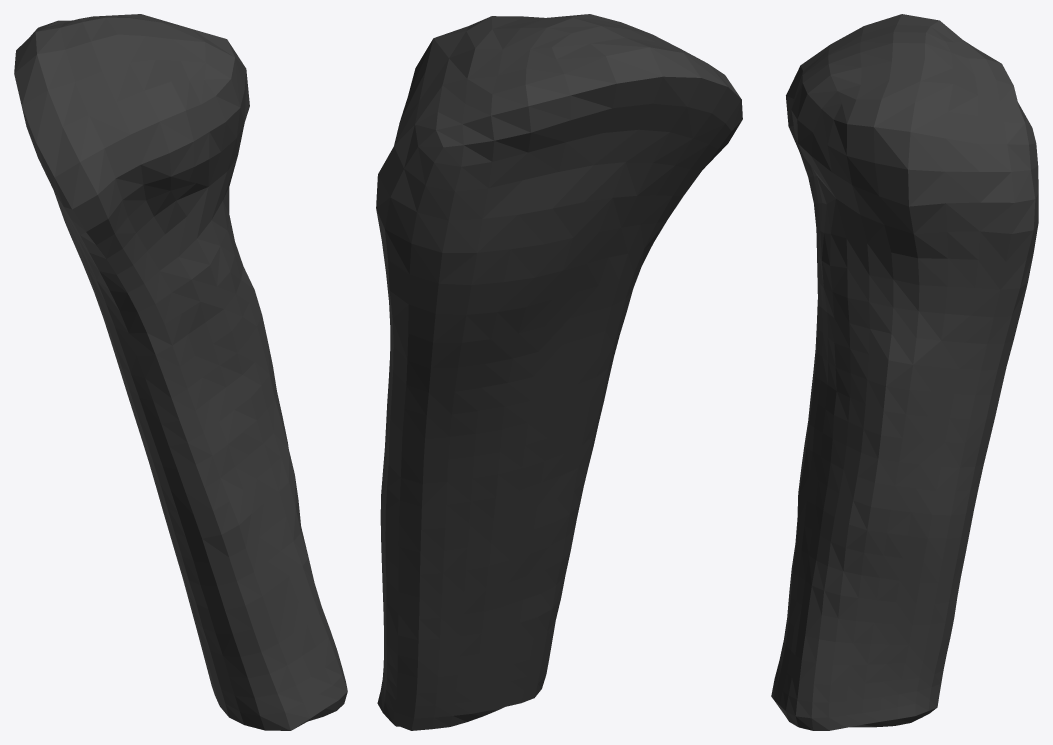
File: Second_metatarsal.glb
3 views of the same model, side by side, from view 1: azimuth 30°, elevation 25°; view 2: azimuth 150°, elevation 25°; view 3: azimuth 270°, elevation 25° (orthographic). The views are drawn at different scales.
Parts seen in each view (by area): view 1: Second_metatarsal; view 2: Second_metatarsal; view 3: Second_metatarsal.
Boxes of the visible parts, x1,y1,x2,y2 form: Second_metatarsal: (14, 14, 347, 730); Second_metatarsal: (376, 14, 742, 730); Second_metatarsal: (771, 14, 1038, 730).
Size of the model in its own units: 58.35 by 127 by 50.36.
1 material, 1 textured.
